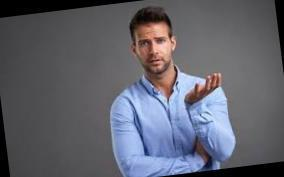Sober: (137, 24, 172, 70)
